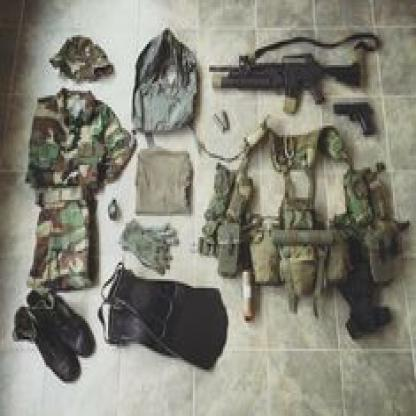Grenade: (242, 268, 253, 320)
Gun: (208, 51, 362, 116)
Pistol: (334, 101, 378, 137)
